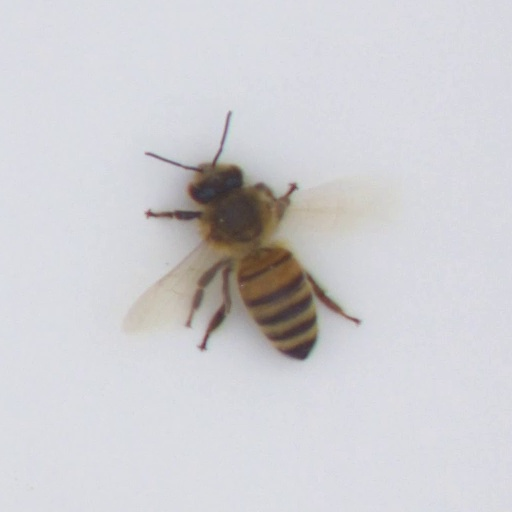Bee: (186, 165, 322, 357)
Thorax: (205, 188, 265, 245)
